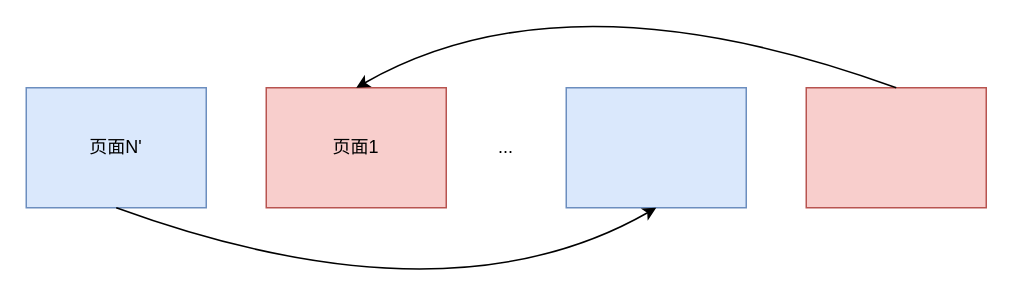
The diagram is 1013 pixels wide and 296 high, and some of its shapes have lost their labels. Each missing label, with the centre of its shape:
"页面1'" goes at (x=895, y=147).
"页面N" goes at (x=655, y=147).
